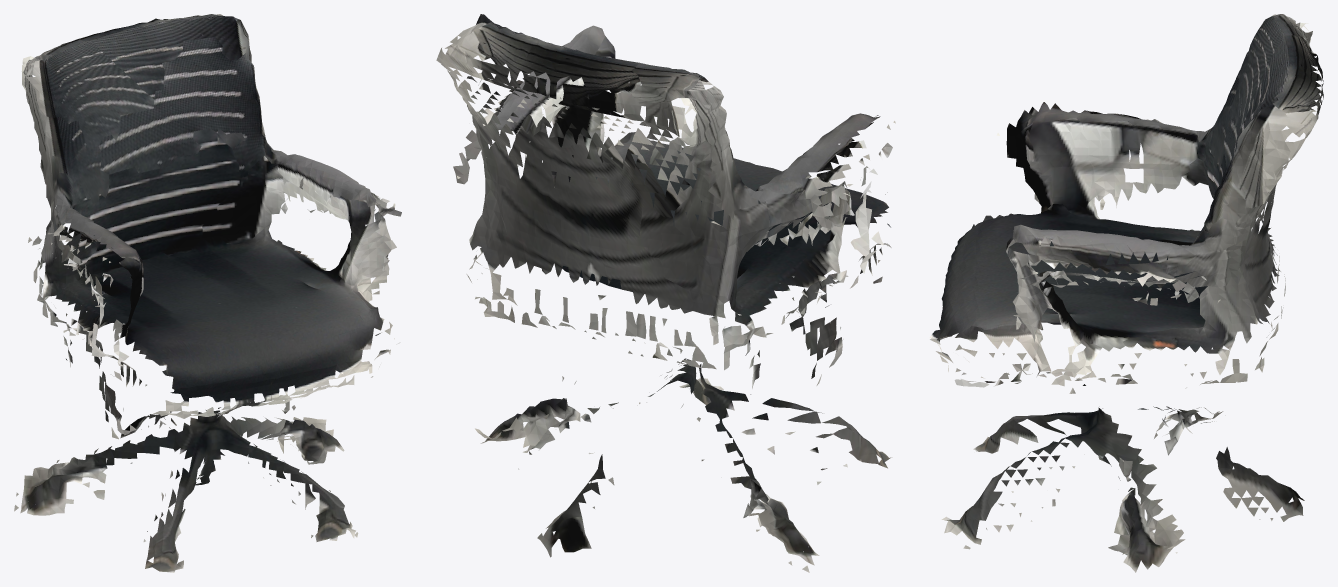
The model's file is chairtemplate.glb.
3 views of the same model, side by side, from view 1: azimuth 30°, elevation 25°; view 2: azimuth 150°, elevation 25°; view 3: azimuth 270°, elevation 25° (orthographic). The views are drawn at different scales.
Size of the model in its own units: 0.7 by 0.892 by 0.7067.
Materials: 1 (1 with a texture image).
